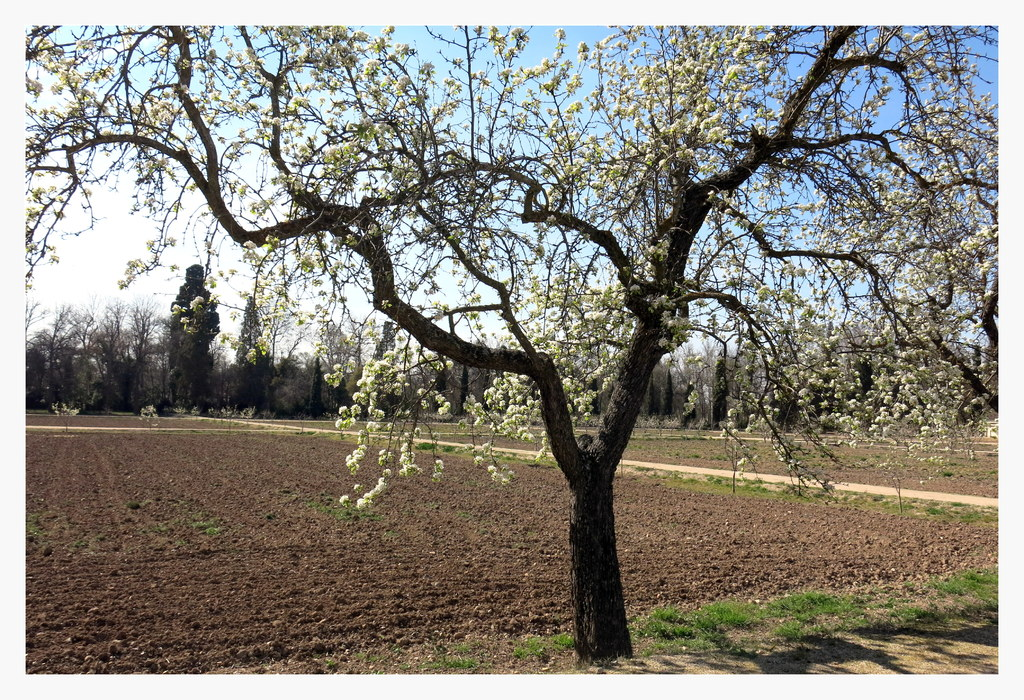Tree: (11, 23, 1011, 669), (17, 294, 393, 408), (656, 332, 767, 439), (151, 246, 215, 382)
